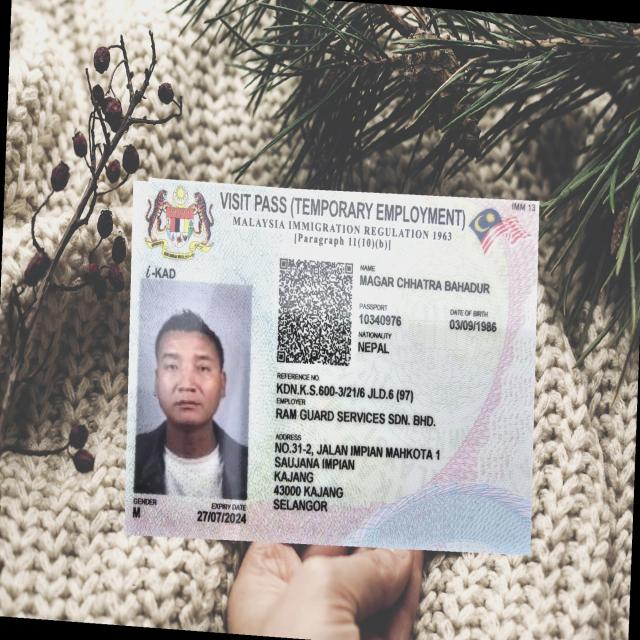ikad-temp: (124, 177, 540, 553)
